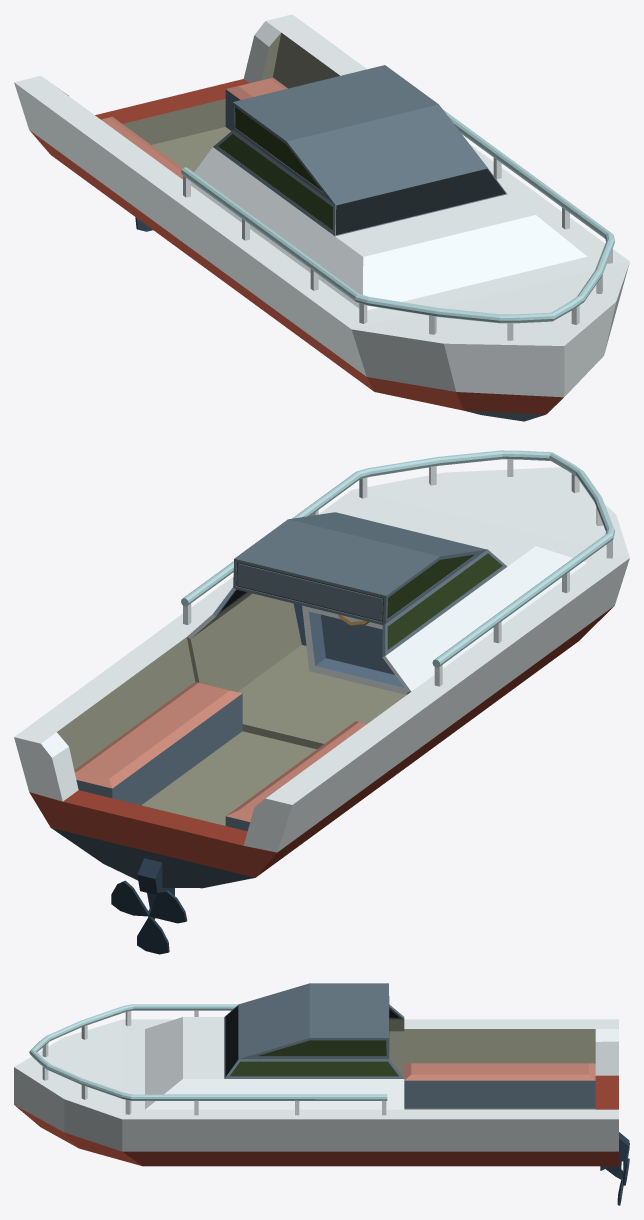
Rendered from Fisher_Boat.glb.
3 renders of one model, top to bottom at view 1: azimuth 30°, elevation 25°; view 2: azimuth 150°, elevation 25°; view 3: azimuth 270°, elevation 25°, orthographic. The views are drawn at different scales.
Visible parts, largest first — view 1: Fisher_Boat; view 2: Fisher_Boat; view 3: Fisher_Boat.
Part boxes in pixels (x1,y1,x2,y2): Fisher_Boat: (14,14,629,421); Fisher_Boat: (14,450,629,954); Fisher_Boat: (14,983,629,1205).
Size of the model in its own units: 2.23 by 2 by 5.8.
1 material, 1 textured.
